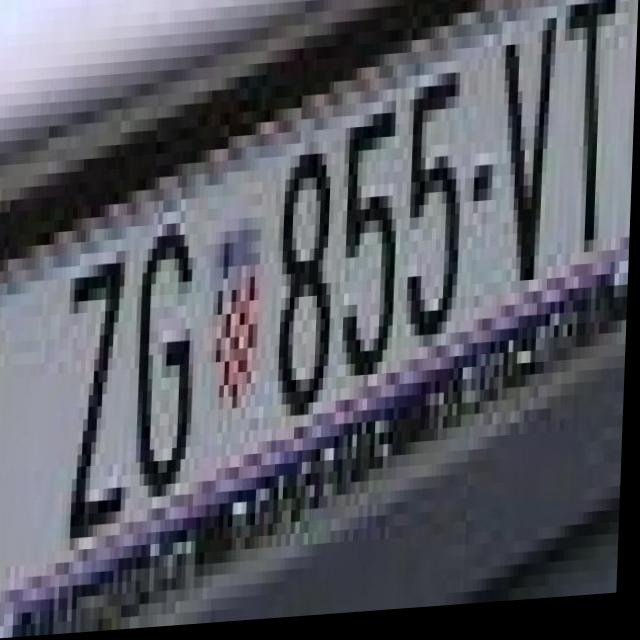5: (331, 71, 403, 383), (403, 79, 465, 355)
8: (271, 134, 343, 422)
G: (130, 213, 205, 490)
T: (555, 0, 617, 264)
V: (495, 14, 558, 315)
Z: (56, 241, 133, 553)
